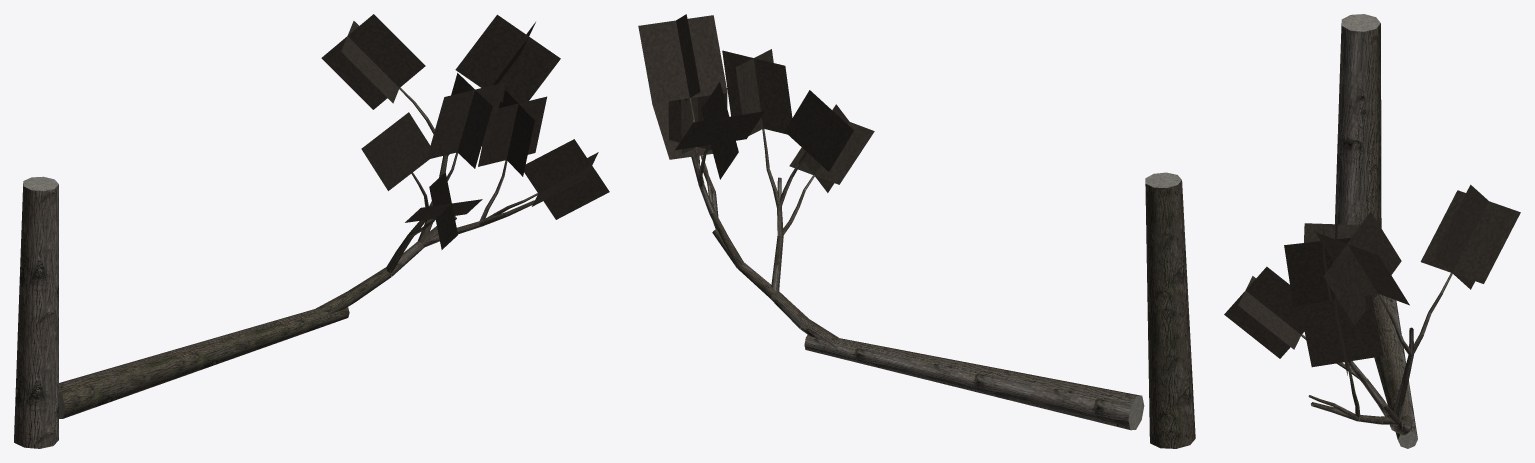
File: S1U_Tree_Broken.fbx
3 views of the same model, side by side, from view 1: azimuth 30°, elevation 25°; view 2: azimuth 150°, elevation 25°; view 3: azimuth 270°, elevation 25° (orthographic). The views are drawn at different scales.
Visible parts, largest first — view 1: S1U_Tree_Broken; view 2: S1U_Tree_Broken; view 3: S1U_Tree_Broken.
Boxes of the visible parts, x1,y1,x2,y2 form: S1U_Tree_Broken: [14, 14, 609, 448]; S1U_Tree_Broken: [638, 14, 1195, 448]; S1U_Tree_Broken: [1224, 14, 1520, 448].
Size of the model in its own units: 8.2 by 4.33 by 3.46.
